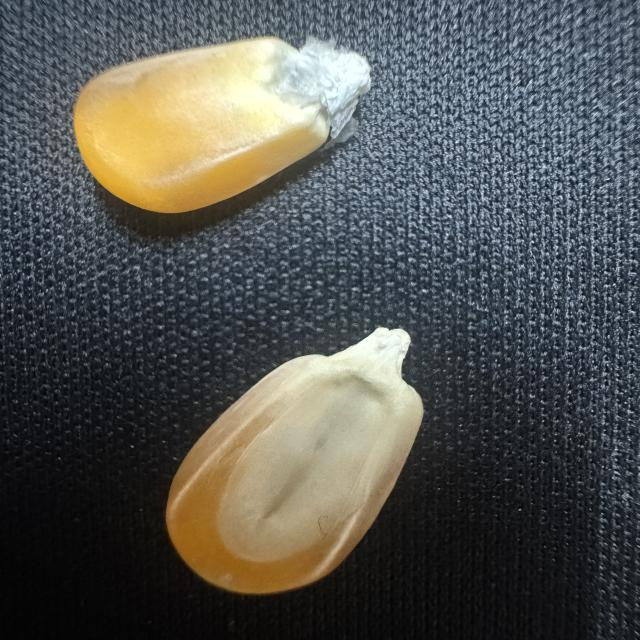Good-Seed: (155, 318, 428, 596), (61, 24, 384, 215)
